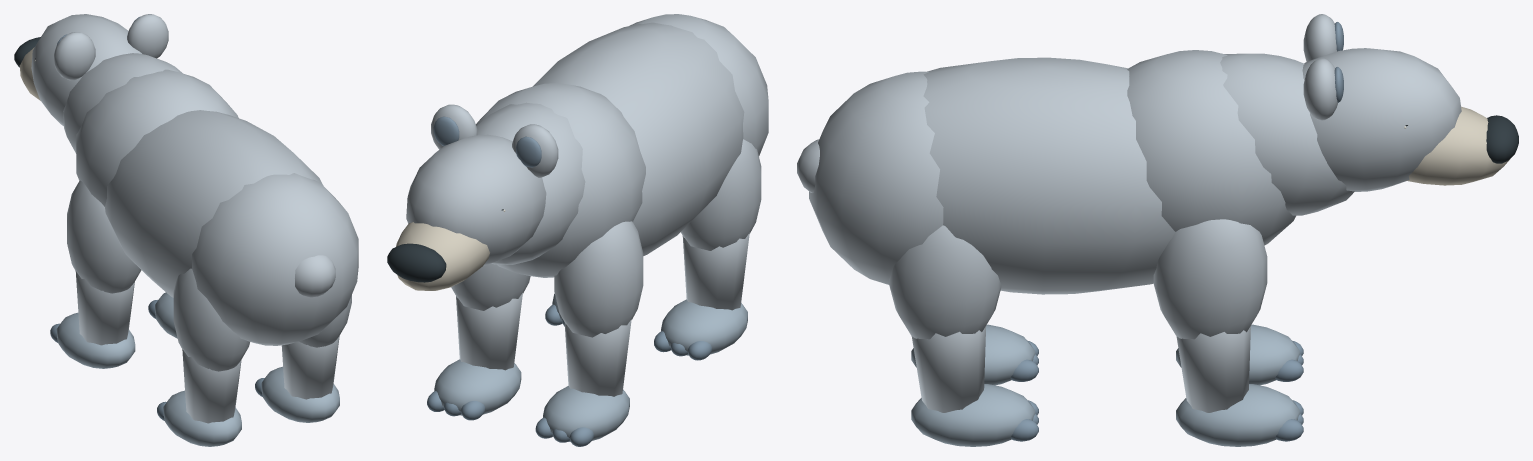
Rendered from polar-bear-high.glb.
3 renders of one model, left to right at view 1: azimuth 30°, elevation 25°; view 2: azimuth 150°, elevation 25°; view 3: azimuth 270°, elevation 25°, orthographic. The views are drawn at different scales.
Parts seen in each view (by area): view 1: polar-bear-high; view 2: polar-bear-high; view 3: polar-bear-high.
Part boxes in pixels (box(x1,y1,x2,y2)): polar-bear-high: box(14, 14, 358, 446); polar-bear-high: box(387, 14, 768, 446); polar-bear-high: box(797, 14, 1518, 446).
Size of the model in its own units: 0.8089 by 1.4 by 2.45.
